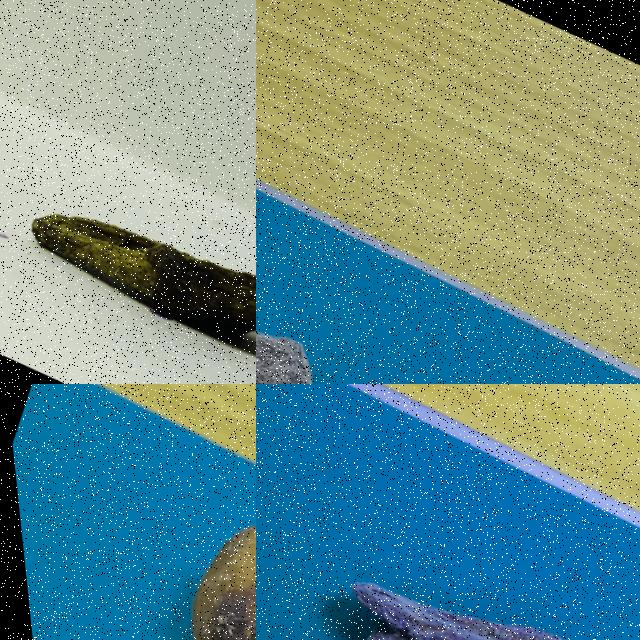Agglomerated_cocoabeans: (256, 397, 639, 639), (256, 243, 471, 383)
Fine_cocoabeans: (51, 456, 255, 639)
Flat_cocoabeans: (0, 111, 255, 383)
